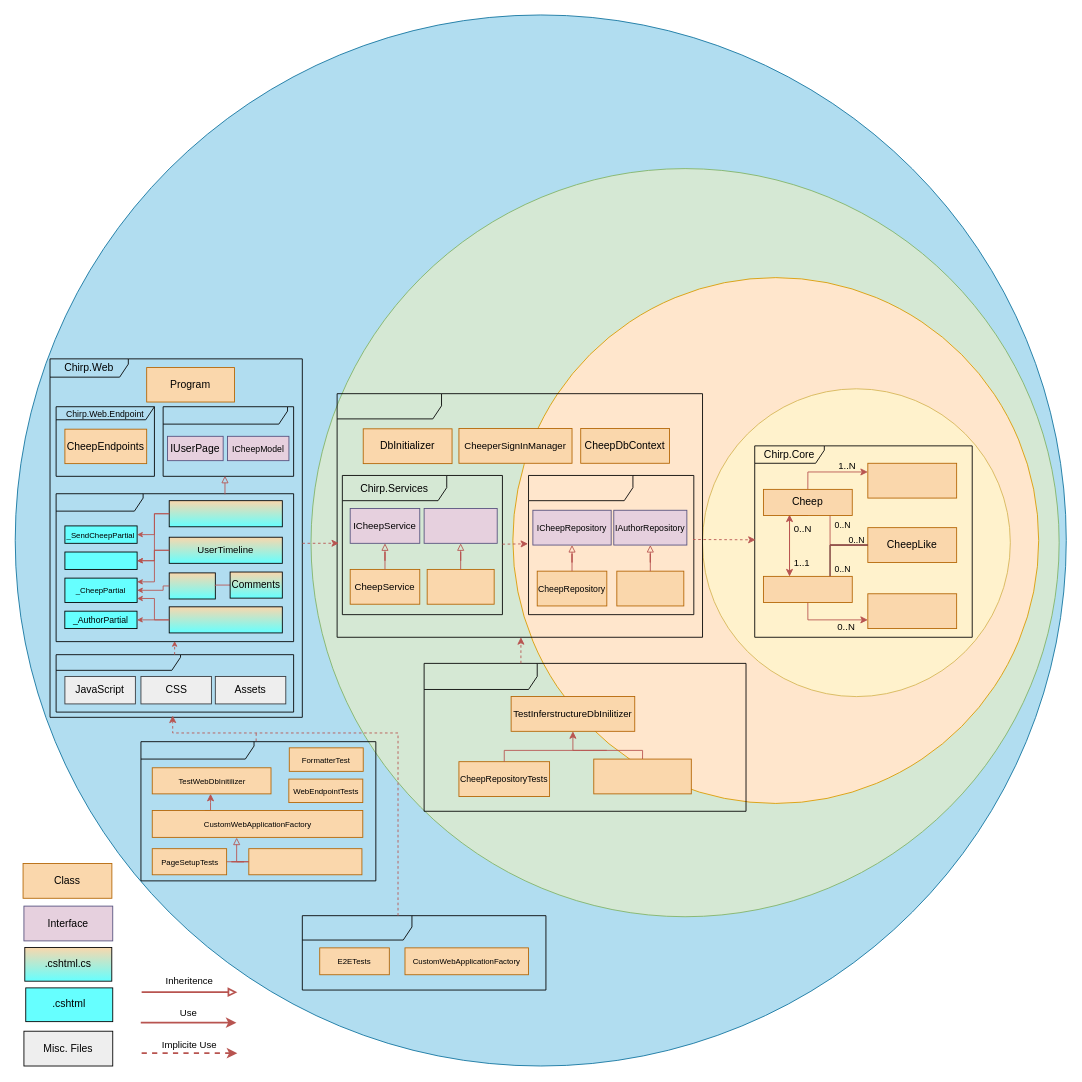
The diagram is 1082 pixels wide and 1082 high, and some of its shapes have lost their labels. The box of each missing label's shape, as (x1, y1, x2, y2) in pixels:
_PaginationPartial: (64, 551, 137, 569)
Author: (763, 576, 852, 602)
AuthorFollow: (867, 593, 957, 629)
AuthorRepository: (616, 570, 684, 606)
AuthorRepositoryTests: (593, 758, 691, 794)
AuthorService: (426, 569, 494, 604)
CheepRevision: (867, 462, 957, 498)
Chirp.Infrastructure: (336, 393, 703, 637)
Chirp.Infrastructure.Tests: (423, 663, 746, 811)
Chirp.Pages: (55, 493, 294, 642)
Chirp.Repositories: (528, 475, 694, 615)
Chirp.Web.Interfaces: (162, 406, 294, 476)
Chirp.Web.Playwright: (301, 915, 546, 990)
Chirp.Web.Tests: (140, 741, 376, 881)
Chirp.Web.wwwroot: (55, 654, 294, 712)
IAuthorService: (423, 508, 497, 543)
Likes: (168, 572, 215, 599)
Public: (168, 500, 282, 527)
Search: (168, 606, 282, 633)
SearchIntegrationTest: (248, 848, 362, 875)
